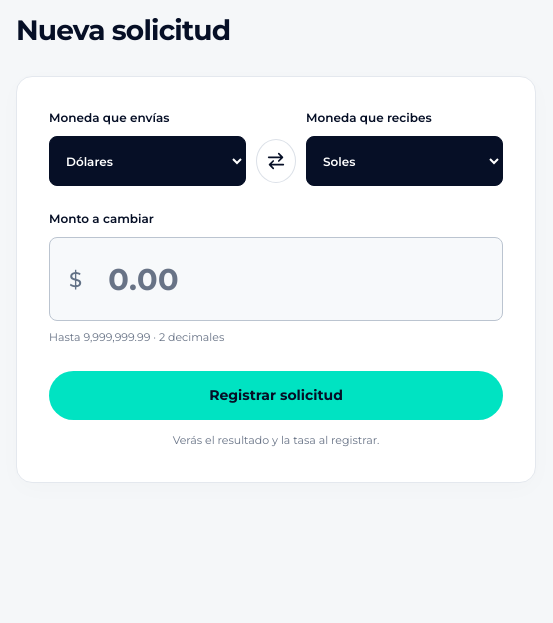
Test case: formulario de cambio › ofrece consultar el historial ante un resultado incierto sin enviar nuevamente
In the field with id "exchange-amount": [276, 279] box [49,237,503,321], type "100"
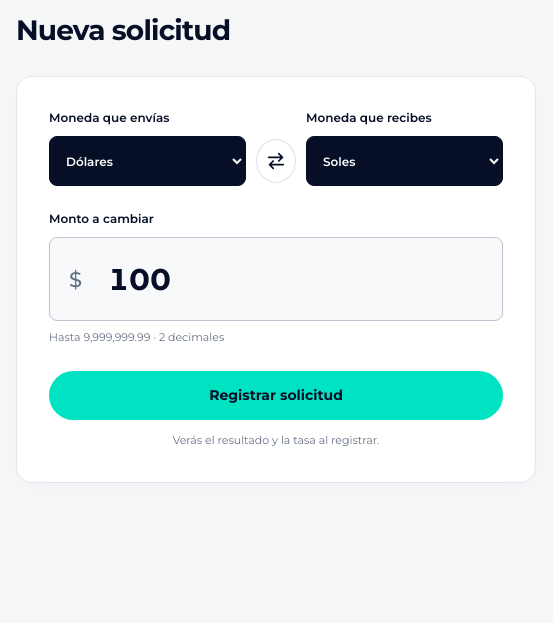
Submit the form, box [49,109,503,450]
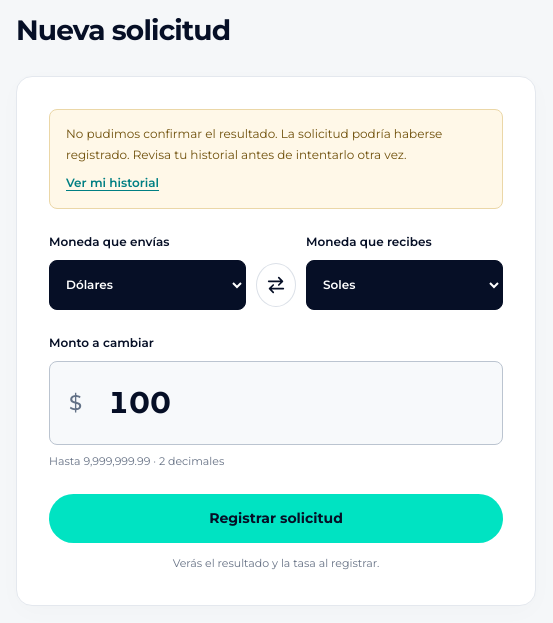
Now the message shows "podría haberse registrado", box [66,126,442,162]
